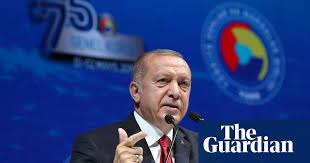middle_eastern_male: (142, 46, 192, 127)
